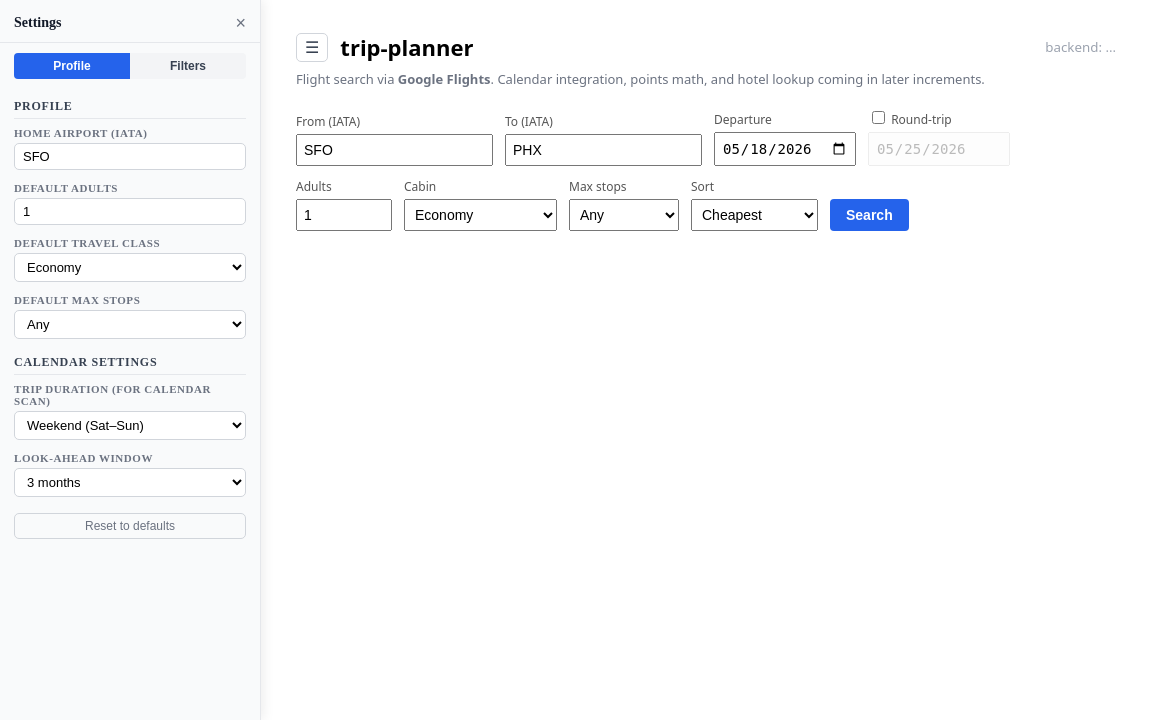
Scenario: App › submits a search and renders results
The image size is (1152, 720).
Click the button "Search" at (869, 215), box [830,199,909,231]
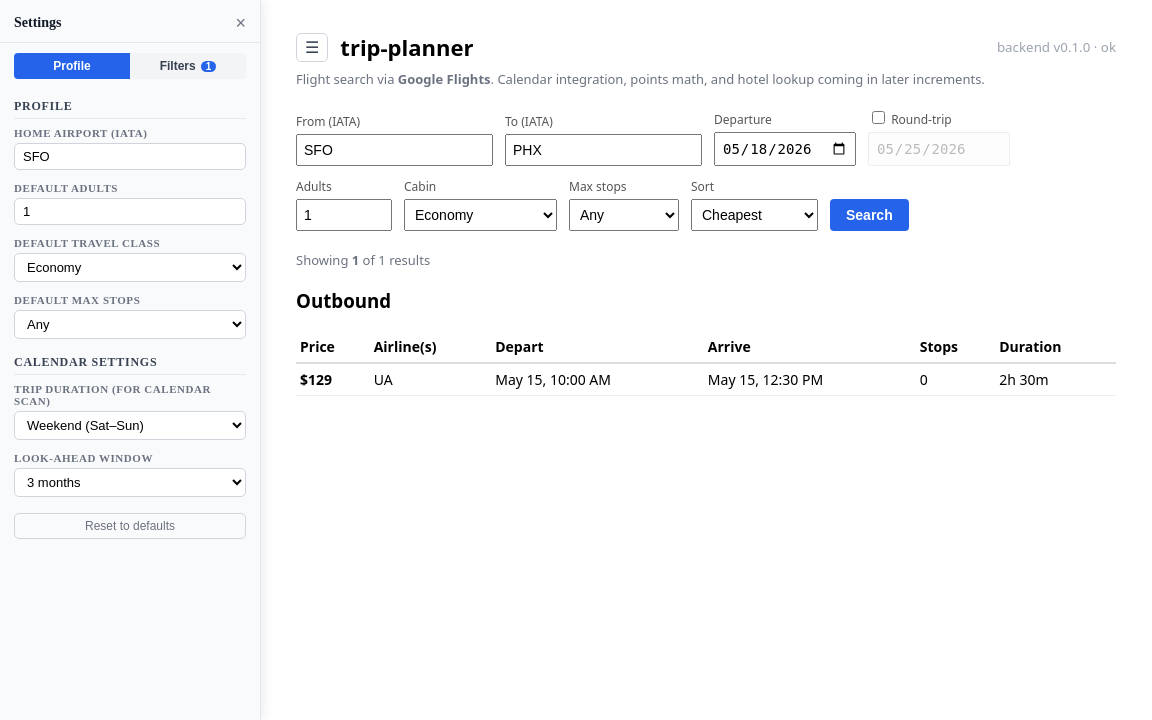
expect the heading "Outbound" is shown: met, box [296,288,391,313]
expect the text "$129" is shown: met, box [296,363,370,396]
expect the text "UA" is shown: met, box [370,363,491,396]
